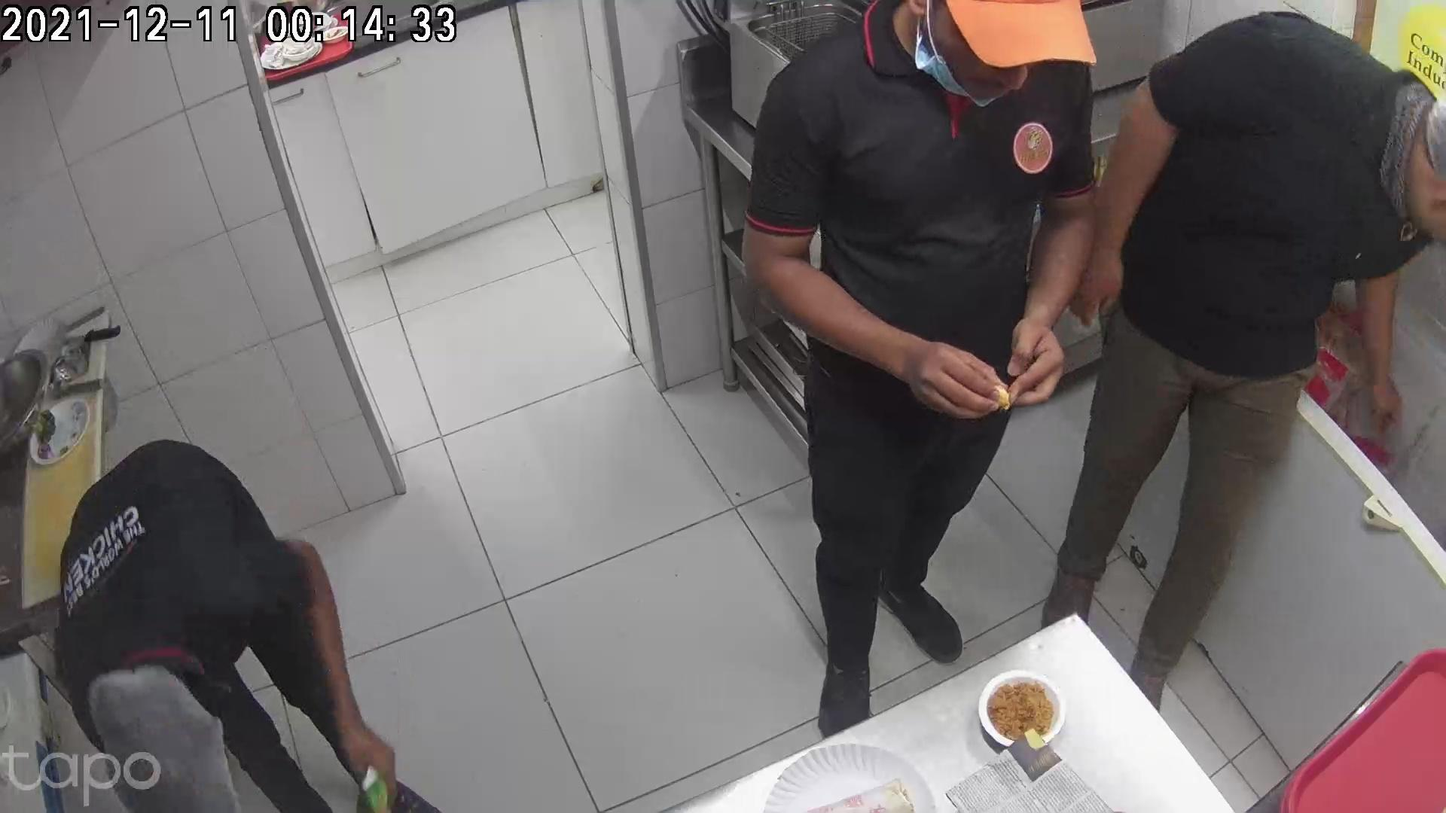no_gloves: (748, 243, 883, 340)
